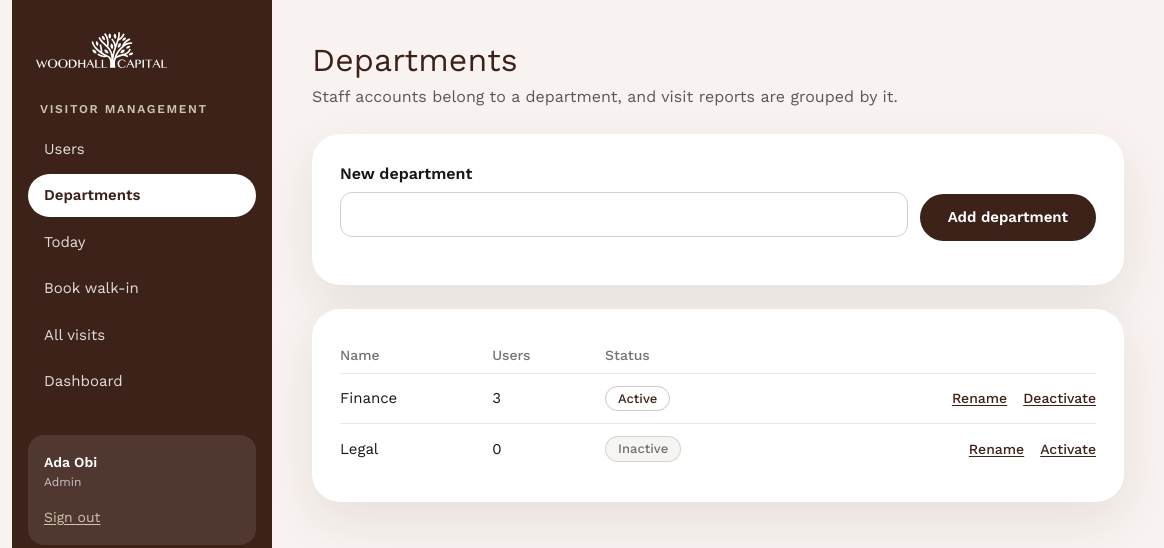
Scenario: shows the server error for a duplicate name
Type "finance" into the field labelled "New department" at (624, 214), box [340,192,908,236]
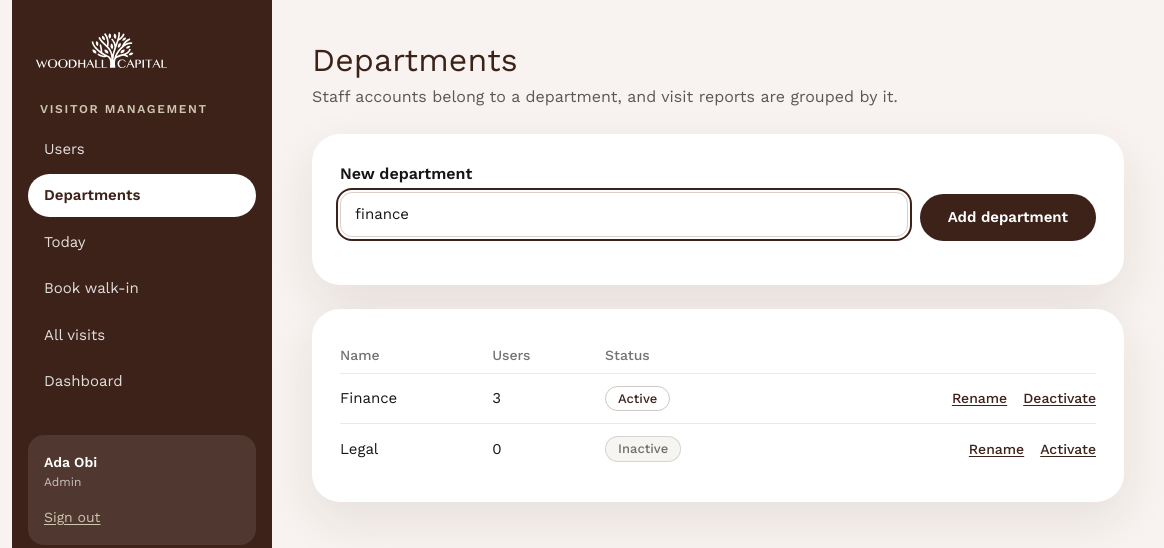
Click the button "Add department" at (1008, 217), box [920,194,1096,240]
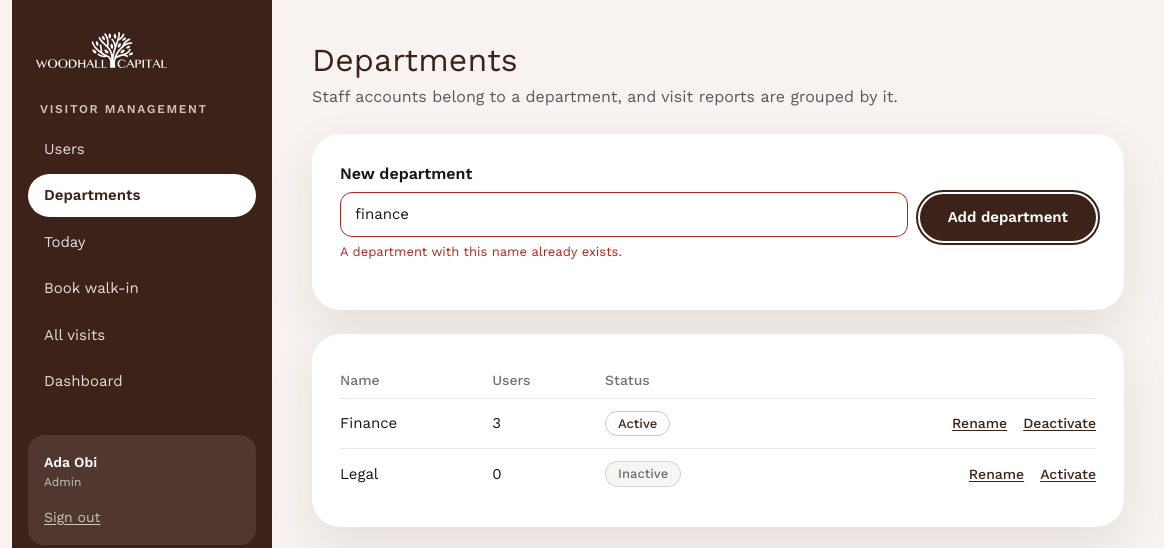
Result: the text "A department with this name already exists." is shown at [340,244,622,258]
